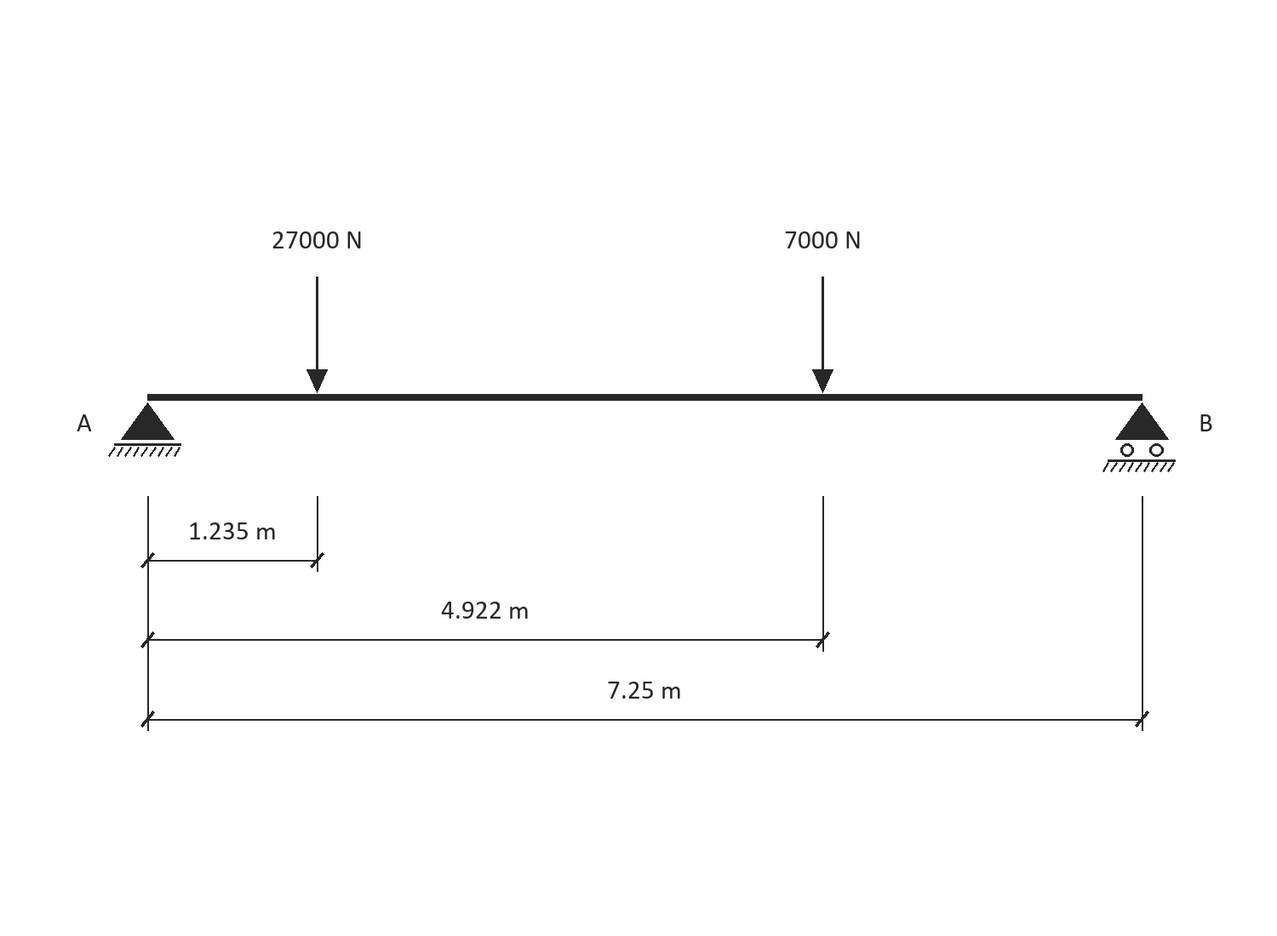pin_support: (108, 402, 181, 457)
point_load: (306, 277, 328, 393), (812, 277, 833, 393)
roller_support: (1102, 402, 1176, 472)
